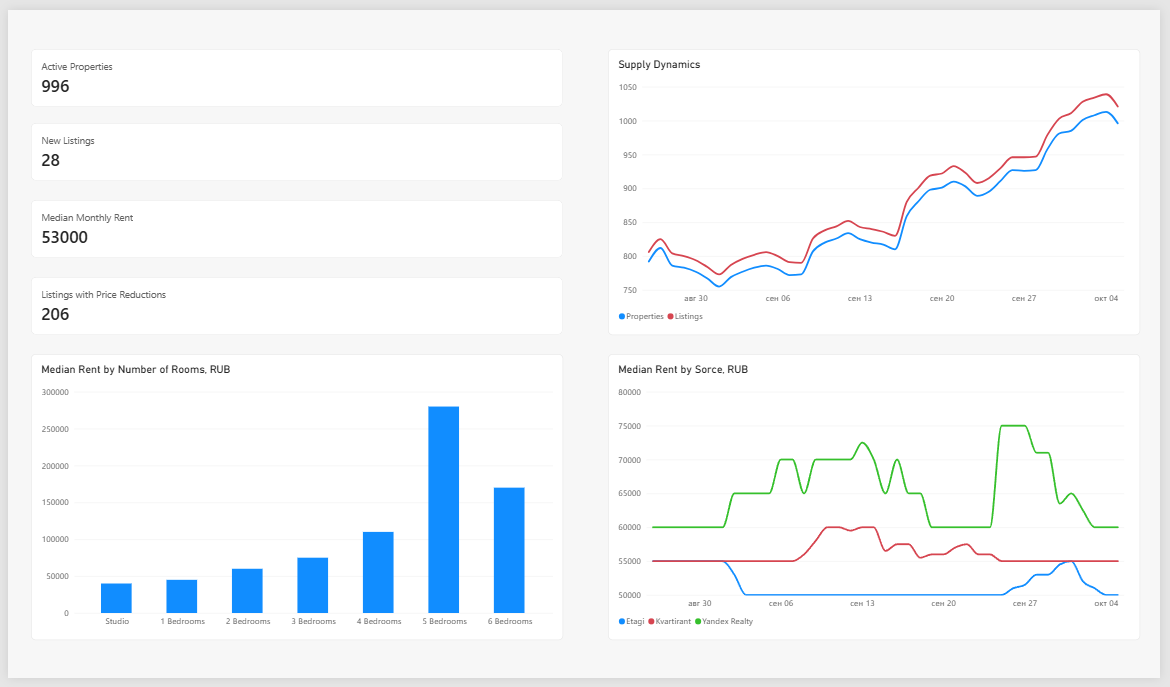

What the dashboard file says about the page in this screenshot:
{"tool":"powerbi","page":{"name":"Market Overview","canvas":[1920,1080],"ordinal":0},"visuals":[{"type":"lineChart","title":"Supply Dynamics","fields":{"Category":["marts market_daily.snapshot_date"],"Y":["Sum(marts market_daily.property_count)","Sum(marts market_daily.listing_count)"]},"box":[1000,31.7,886.7,476.7],"z":0},{"type":"lineChart","title":"Median Rent by Sorce, RUB","fields":{"Category":["marts source_daily.snapshot_date"],"Series":["marts source_daily.Source Name"],"Y":["Sum(marts source_daily.median_monthly_rent)"]},"box":[1000,540,886.7,476.7],"z":1000},{"type":"clusteredColumnChart","title":"Median Rent by Number of Rooms, RUB","fields":{"Category":["marts market_daily.Room Type"],"Y":["marts market_daily.Median Rent by Room"]},"box":[38.3,540,886.7,476.7],"z":2000},{"type":"cardVisual","fields":{"Data":["marts listing_lifecycle.Activve Properties"]},"box":[38.3,31.7,886.7,96.7],"z":3000},{"type":"cardVisual","fields":{"Data":["marts listing_lifecycle.New Listings"]},"box":[38.3,155,886.7,96.7],"z":4000},{"type":"cardVisual","fields":{"Data":["marts listing_lifecycle.Listings with Price Reductions"]},"box":[38.3,411.7,886.7,96.7],"z":5000},{"type":"cardVisual","fields":{"Data":["marts listing_lifecycle.Median Monthly Rent"]},"box":[38.3,283.3,886.7,96.7],"z":6000}]}

Visuals, with their boxes on the page's 1920x1080 design canvas (x1, y1, x2, y2). These are canvas units, not pixel positions in the 1170x687 screenshot, which may show the page scaled, cropped or inside an application window:
"Supply Dynamics" lineChart: Rect(1000, 32, 1887, 508)
"Median Rent by Sorce, RUB" lineChart: Rect(1000, 540, 1887, 1017)
"Median Rent by Number of Rooms, RUB" clusteredColumnChart: Rect(38, 540, 925, 1017)
cardVisual - marts listing_lifecycle.Activve Properties: Rect(38, 32, 925, 128)
cardVisual - marts listing_lifecycle.New Listings: Rect(38, 155, 925, 252)
cardVisual - marts listing_lifecycle.Listings with Price Reductions: Rect(38, 412, 925, 508)
cardVisual - marts listing_lifecycle.Median Monthly Rent: Rect(38, 283, 925, 380)
